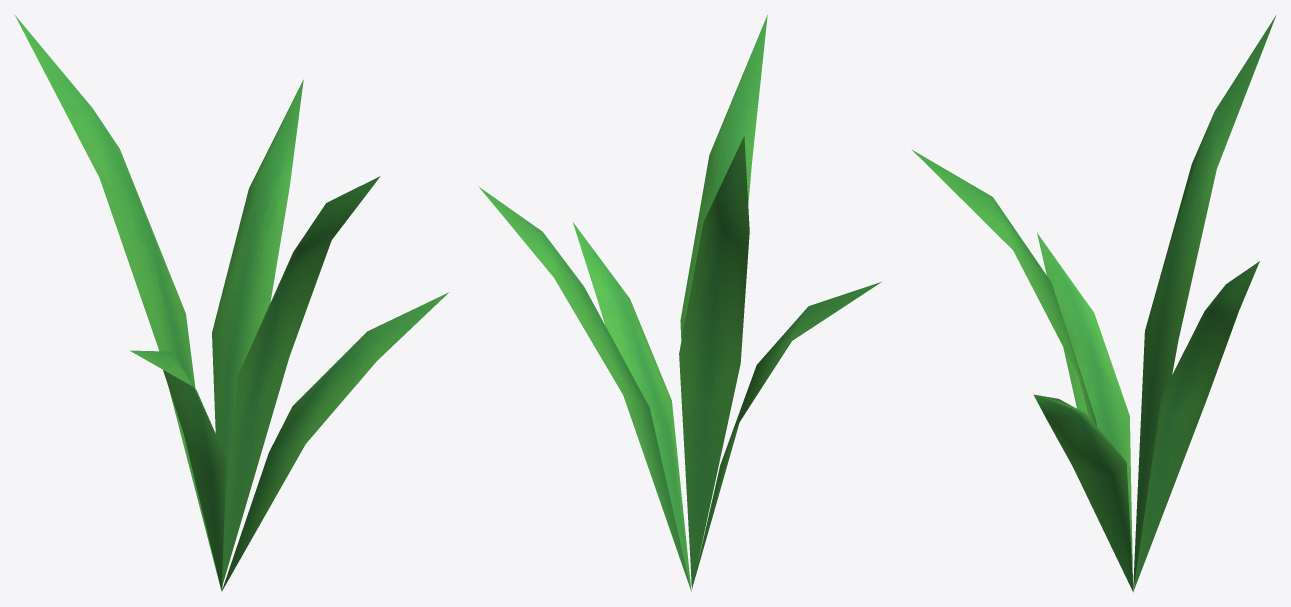
The model's file is Grass_Clump_4.fbx.
3 renders of one model, left to right at view 1: azimuth 30°, elevation 25°; view 2: azimuth 150°, elevation 25°; view 3: azimuth 270°, elevation 25°, orthographic. The views are drawn at different scales.
Parts seen in each view (by area): view 1: object6.057, object6.058, object6.059, object6.060, object6.055; view 2: object6.059, object6.060, object6.057, object6.058, object6.055; view 3: object6.059, object6.057, object6.055, object6.060, object6.058.
Part boxes in pixels (x1,y1,x2,y2): object6.057: [212, 79, 303, 590]; object6.058: [221, 176, 380, 587]; object6.059: [14, 14, 220, 588]; object6.060: [221, 292, 449, 591]; object6.055: [130, 350, 226, 590]; object6.059: [679, 136, 749, 588]; object6.060: [573, 222, 691, 591]; object6.057: [478, 186, 690, 589]; object6.058: [680, 15, 767, 584]; object6.055: [693, 282, 881, 583]; object6.059: [1133, 15, 1276, 587]; object6.057: [1133, 261, 1259, 591]; object6.055: [1037, 233, 1132, 579]; object6.060: [1034, 394, 1133, 592]; object6.058: [911, 149, 1097, 426].
Size of the model in its own units: 39.02 by 64.93 by 41.44.
